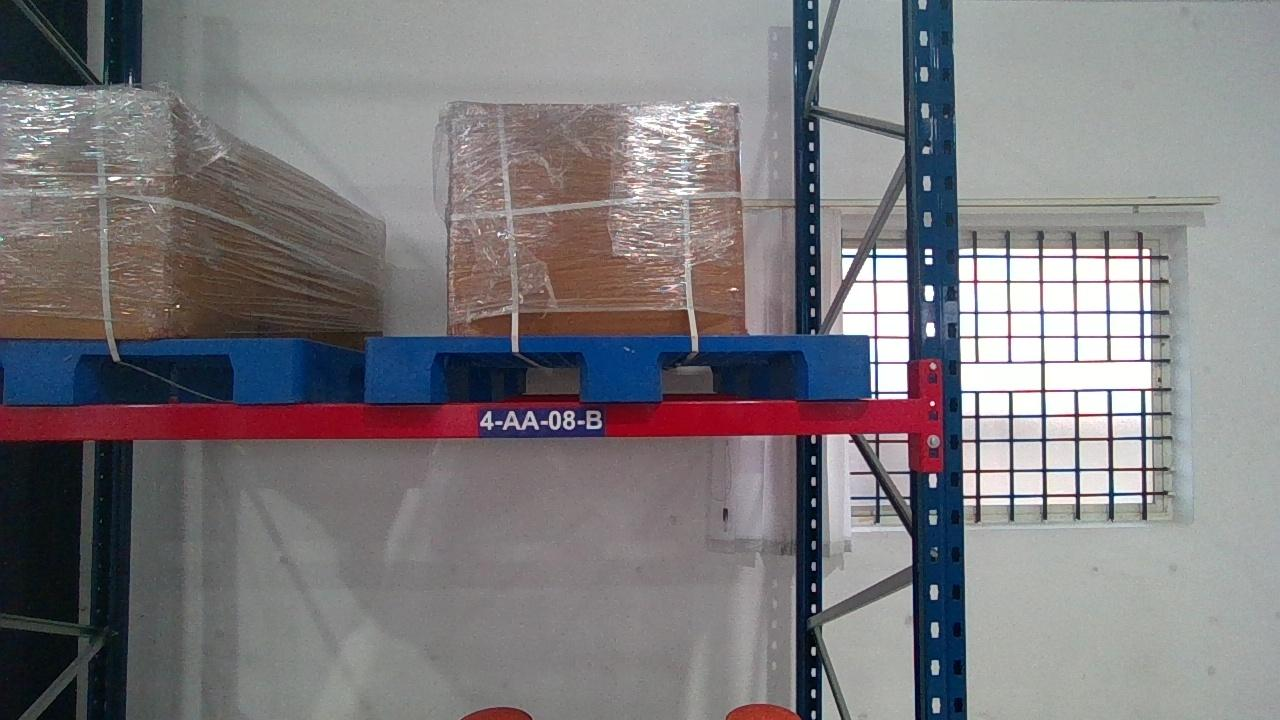h_rack: (2, 399, 924, 439)
small_pallet: (366, 332, 874, 398), (0, 337, 303, 400)
